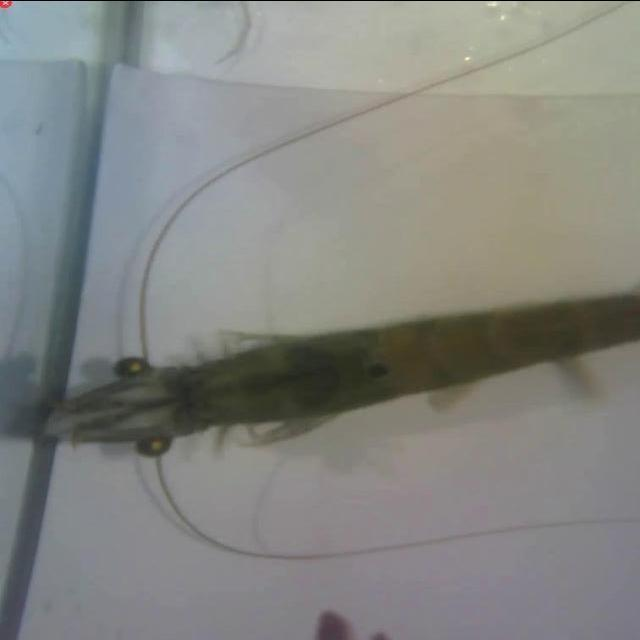shrimp: (45, 292, 639, 442)
